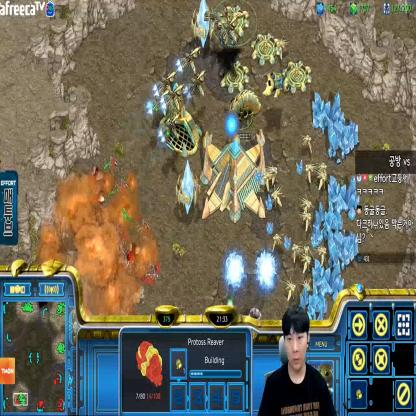streamer: (257, 305, 338, 416)
